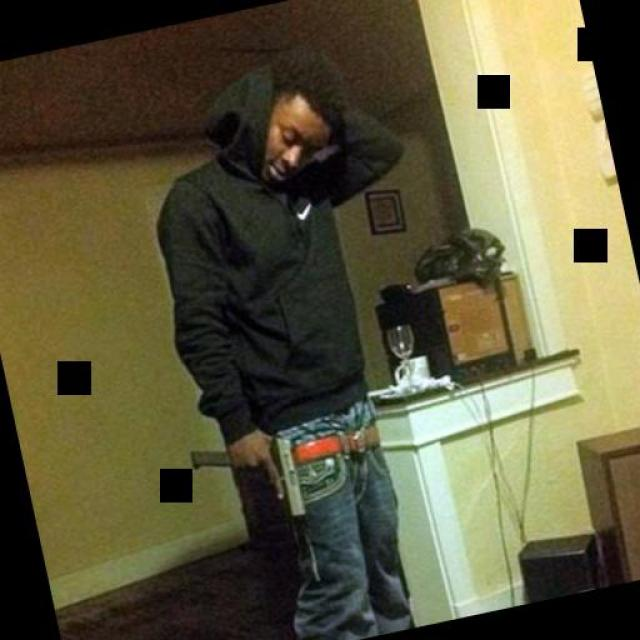gun: (182, 424, 306, 541)
